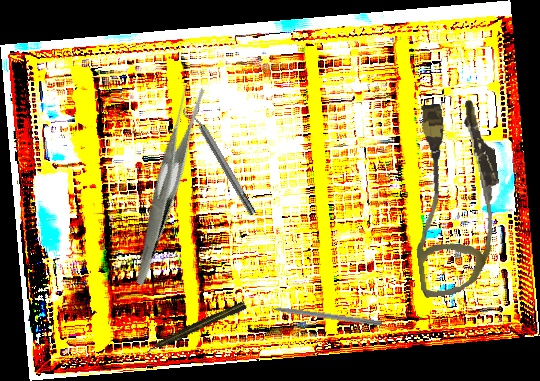Cannula: (399, 97, 512, 299)
Dressing Forceps: (78, 79, 253, 287)
Fixation Ring: (180, 100, 262, 220)
Handpiece: (143, 299, 249, 356)
Hook Surgical: (258, 302, 383, 327)
